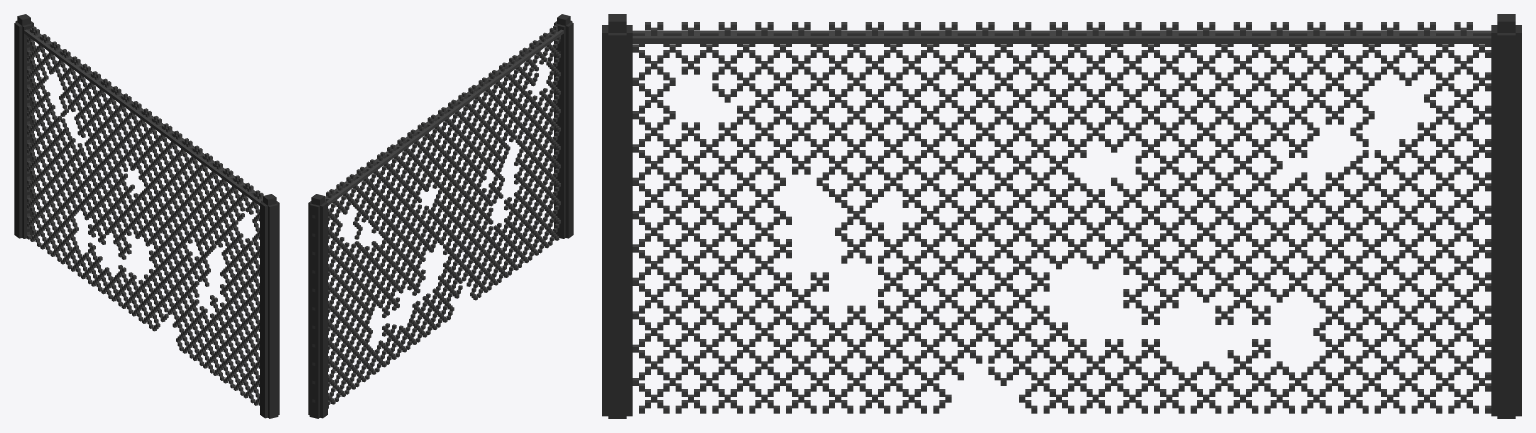
The model's file is fence-0-broken.obj.
3 renders of one model, left to right at view 1: azimuth 30°, elevation 25°; view 2: azimuth 150°, elevation 25°; view 3: azimuth 270°, elevation 25°, orthographic. The views are drawn at different scales.
Visible parts, largest first — view 1: broken; view 2: broken; view 3: broken.
Boxes of the visible parts, x1,y1,x2,y2 form: broken: (14, 14, 279, 418); broken: (308, 14, 573, 418); broken: (602, 14, 1521, 418).
Size of the model in its own units: 0.5 by 7.1 by 15.
1 material, 1 textured.
